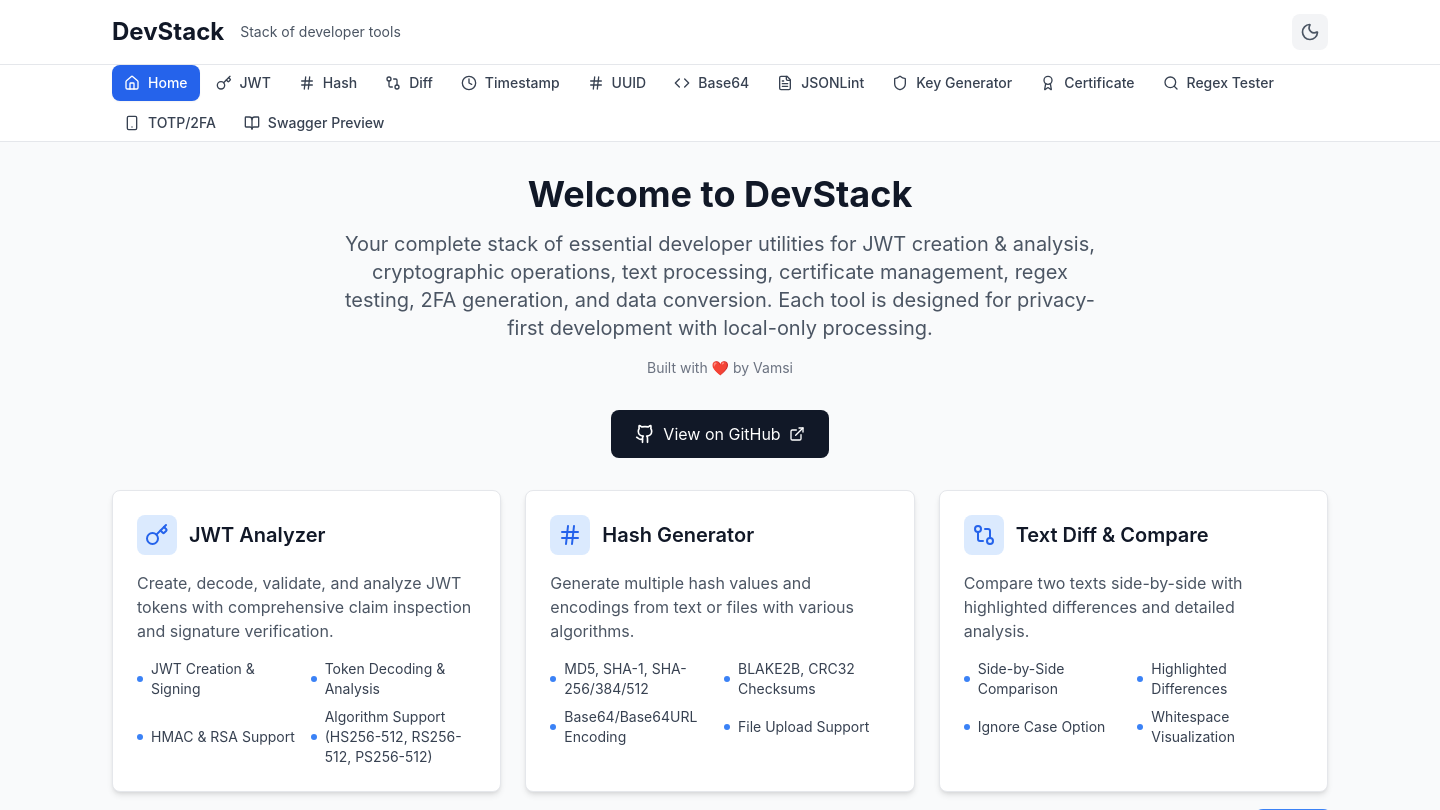
Test case: App Integration › switches between different tools
The image size is (1440, 810).
Click on UUID tab
Click the button "UUID": {"x": 617, "y": 83} [576,65,658,101]
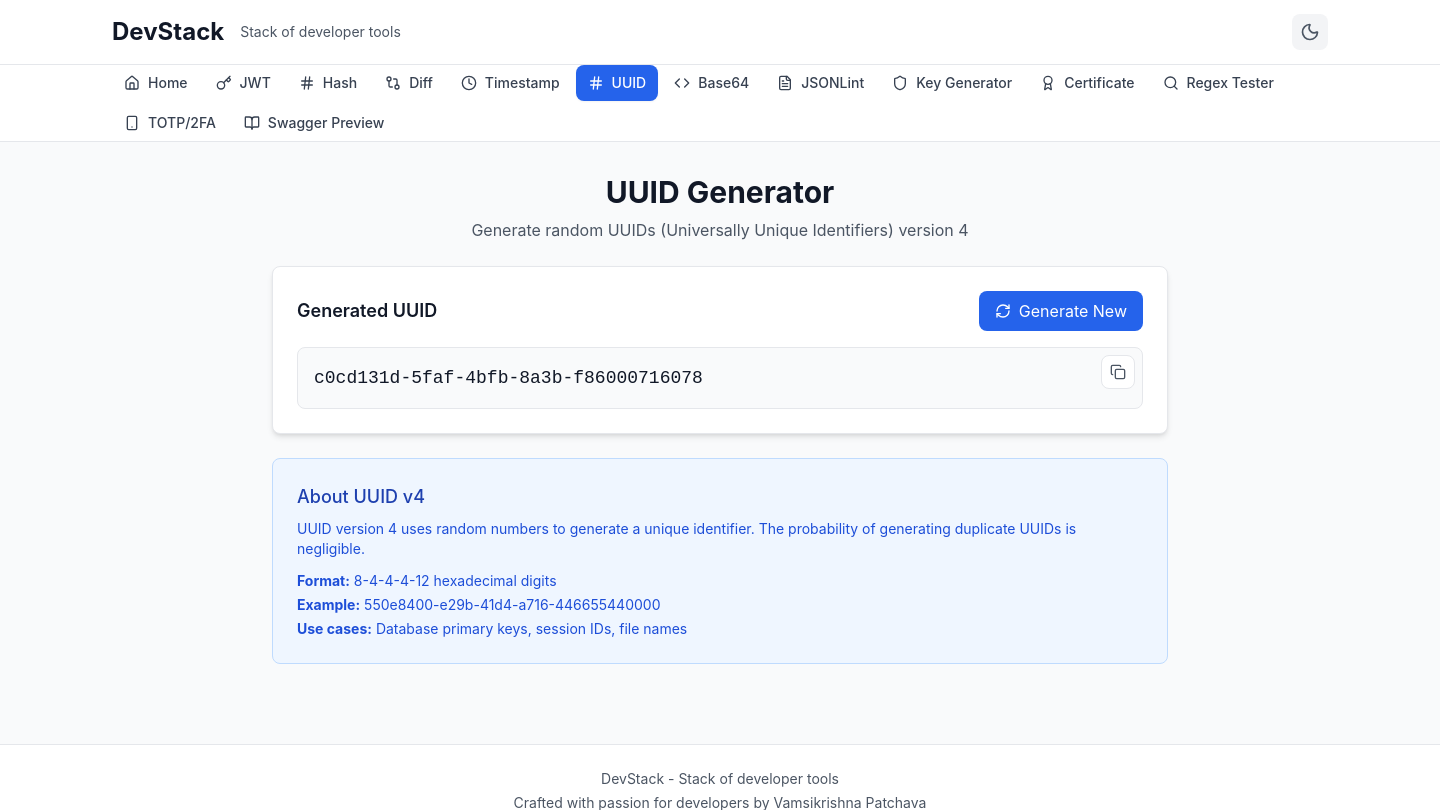
expect the heading "UUID Generator" is shown: met, box [606,174,834,210]
Click on Base64 tab
Click the button "Base64": {"x": 712, "y": 83} [662,65,761,101]
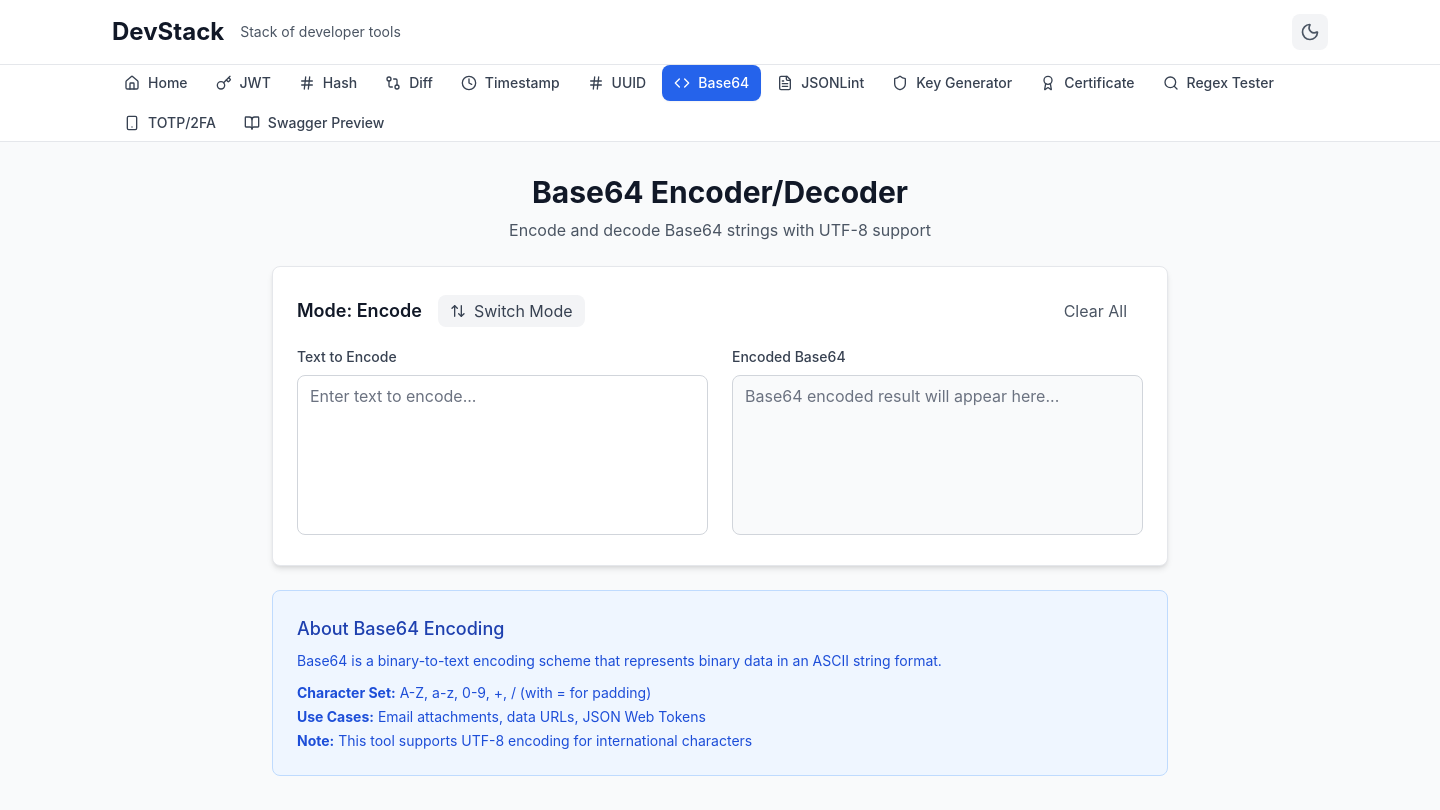
expect the heading "Base64 Encoder/Decoder" is shown: met, box [532,174,908,210]
